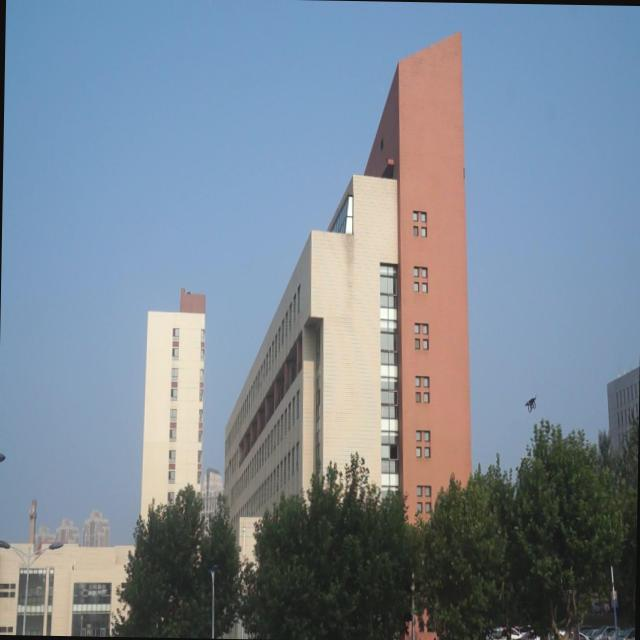drone: (523, 395, 537, 413)
